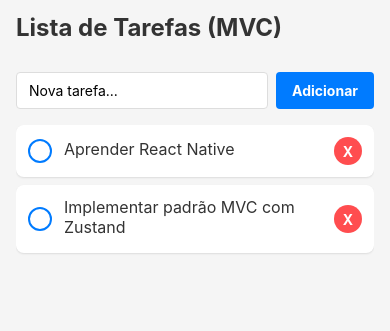
it: TodoListView › deve adicionar uma nova tarefa quando o botão for pressionado
Step 1. Type "Nova tarefa" into the field with placeholder "Nova tarefa..." → (142,90), box [16,72,268,109]
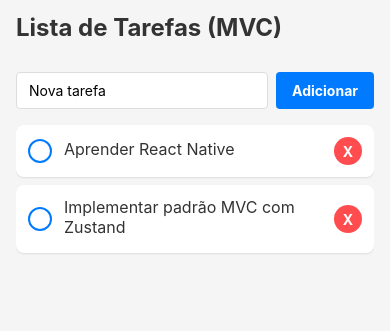
Step 2. Click the text "Adicionar" → (325,90), box [292,82,358,99]
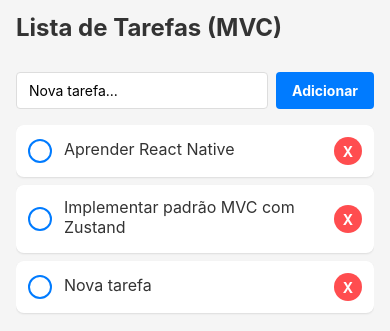
Check: the text "Nova tarefa" is shown, box [64,275,152,295]
